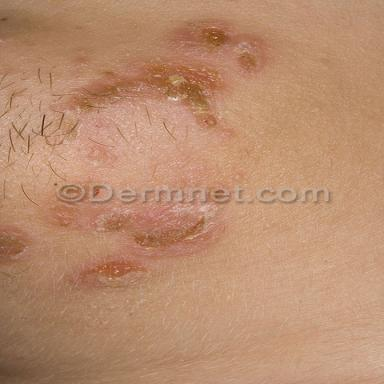Impetigo: (77, 61, 224, 126), (53, 203, 218, 249), (178, 25, 263, 74), (81, 261, 149, 288), (0, 228, 29, 260)
